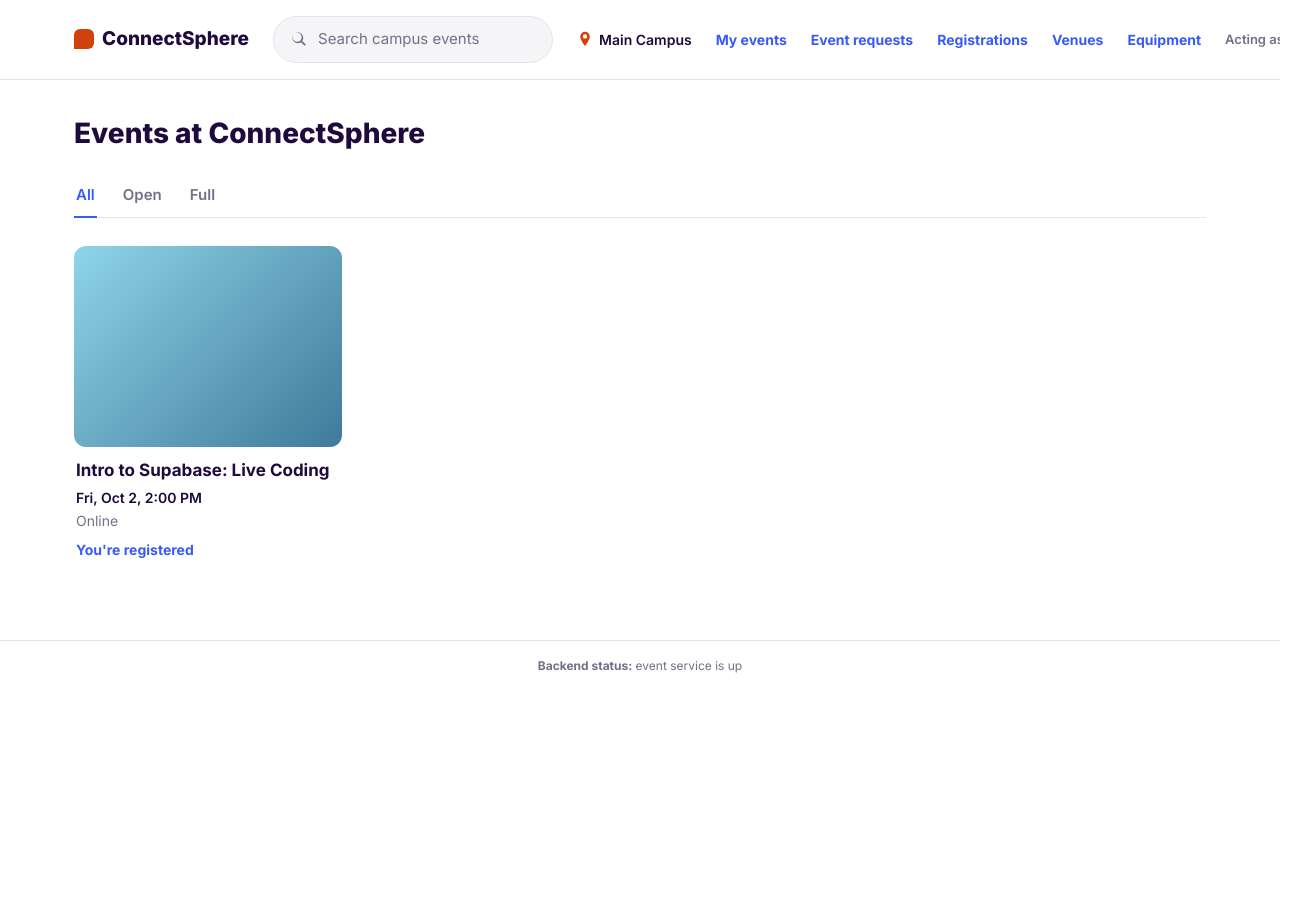
it: register → My events → withdraw (US3, US11, US7) › shows an online event's join link in My events, not a room (TC-US11-03)
Click the button "My events". click: {"x": 751, "y": 39}
box: x1=716 y1=29 x2=787 y2=50
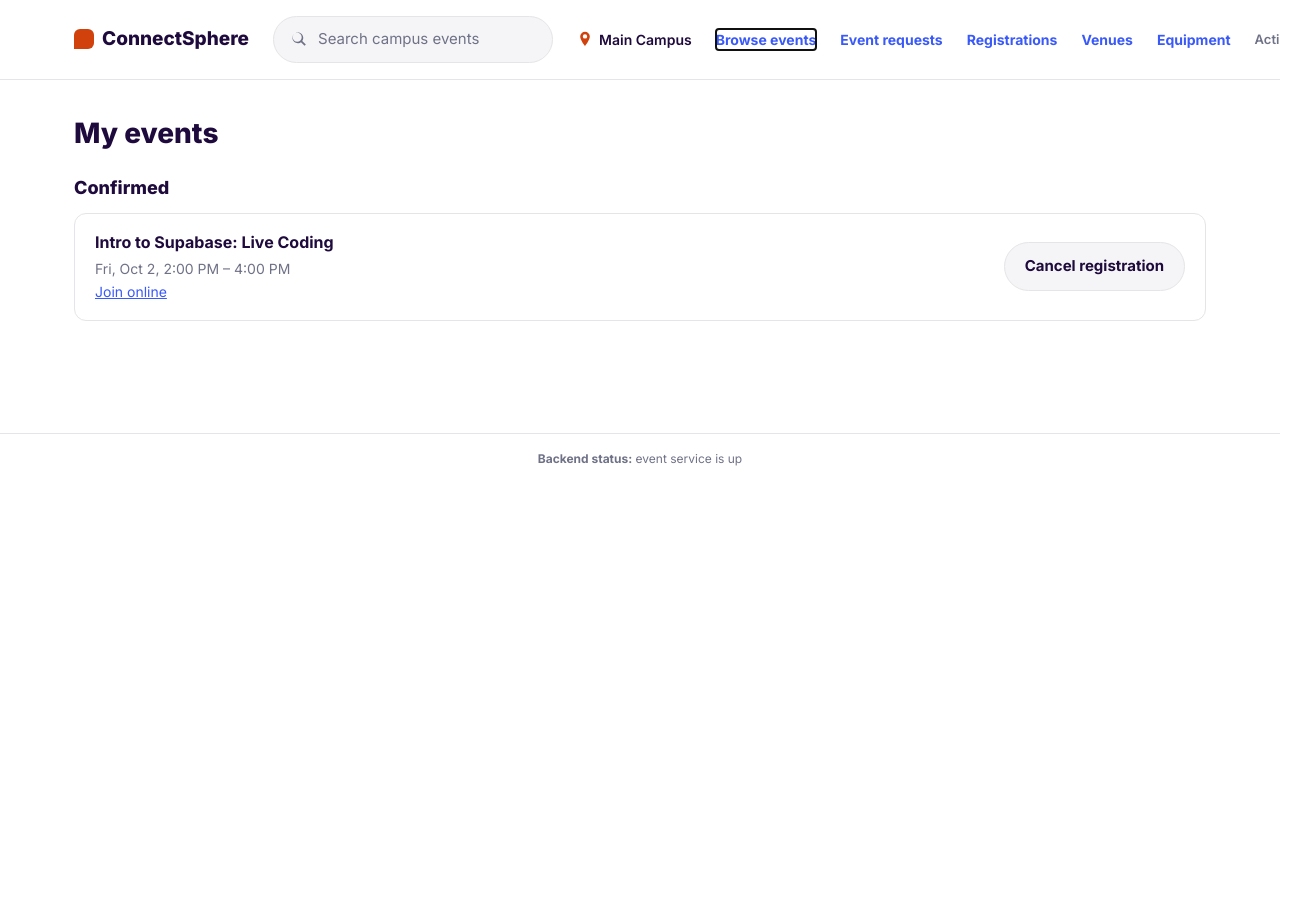
Expected: the heading "My events" is shown, x1=74 y1=116 x2=218 y2=150
